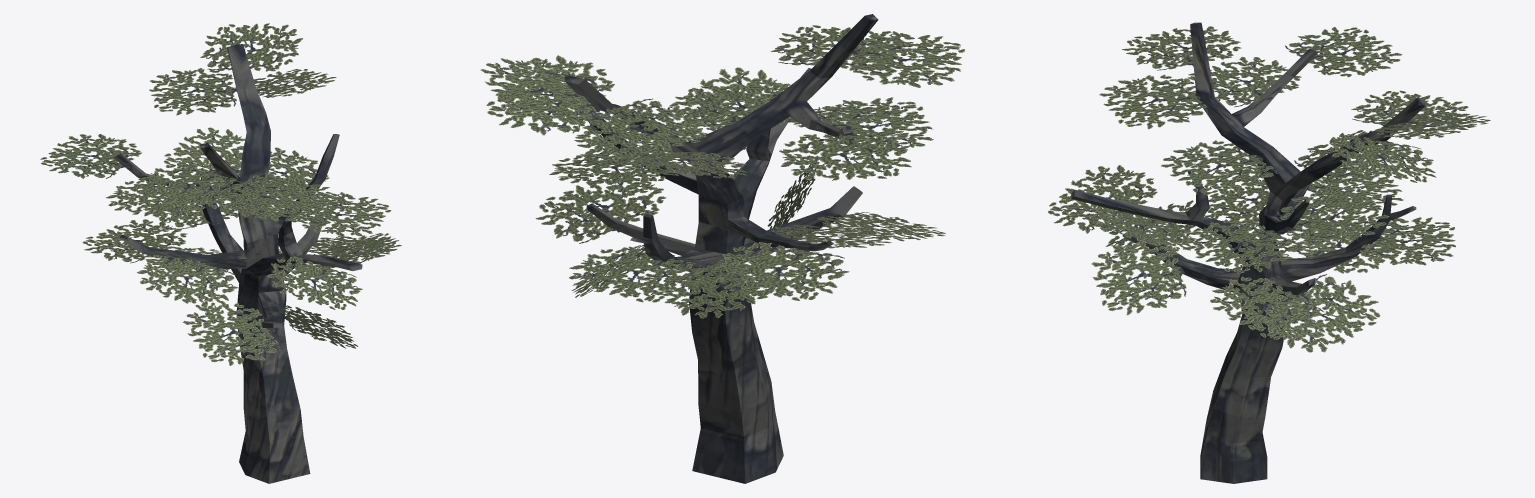
File: ThickTreeWithleaves.fbx
3 views of the same model, side by side, from view 1: azimuth 30°, elevation 25°; view 2: azimuth 150°, elevation 25°; view 3: azimuth 270°, elevation 25° (orthographic). The views are drawn at different scales.
Visible parts, largest first — view 1: Treebody.002, Plane.054, Plane.049, Plane.044, Plane.050, Plane.042, Plane.060, Plane.046, Plane.061, Plane.047, Plane.048, Plane.052 (+8 smaller); view 2: Treebody.002, Plane.048, Plane.042, Plane.061, Plane.058, Plane.062, Plane.044, Plane.050, Plane.057, Plane.056, Plane.051, Plane.045 (+8 smaller); view 3: Treebody.002, Plane.053, Plane.058, Plane.043, Plane.055, Plane.047, Plane.046, Plane.045, Plane.060, Plane.061, Plane.062, Plane.051 (+10 smaller).
Part boxes in pixels (<box>): Treebody.002: <box>114,44,362,483</box>; Plane.054: <box>182,302,280,365</box>; Plane.049: <box>137,255,238,308</box>; Plane.044: <box>136,163,243,211</box>; Plane.050: <box>200,23,302,71</box>; Plane.042: <box>149,68,238,115</box>; Plane.060: <box>267,256,362,309</box>; Plane.046: <box>217,172,320,219</box>; Plane.061: <box>40,134,141,178</box>; Plane.047: <box>294,192,391,236</box>; Plane.048: <box>82,219,187,263</box>; Plane.052: <box>163,127,245,186</box>; Treebody.002: <box>564,14,878,483</box>; Plane.048: <box>711,242,849,300</box>; Plane.042: <box>570,98,706,158</box>; Plane.061: <box>779,132,911,180</box>; Plane.058: <box>535,171,666,243</box>; Plane.062: <box>569,246,705,302</box>; Plane.044: <box>849,31,964,87</box>; Plane.050: <box>480,58,596,123</box>; Plane.057: <box>816,97,933,153</box>; Plane.056: <box>661,251,792,318</box>; Plane.051: <box>486,55,614,135</box>; Plane.045: <box>675,84,792,126</box>; Treebody.002: <box>1071,22,1425,483</box>; Plane.053: <box>1091,240,1186,315</box>; Plane.058: <box>1210,276,1323,339</box>; Plane.043: <box>1263,274,1380,352</box>; Plane.055: <box>1277,185,1389,246</box>; Plane.047: <box>1182,219,1301,273</box>; Plane.046: <box>1099,74,1207,129</box>; Plane.045: <box>1161,140,1277,195</box>; Plane.060: <box>1048,165,1157,233</box>; Plane.061: <box>1285,27,1402,77</box>; Plane.062: <box>1357,217,1455,265</box>; Plane.051: <box>1329,134,1436,182</box>.
Size of the model in its own units: 2008 by 1909 by 2178.
